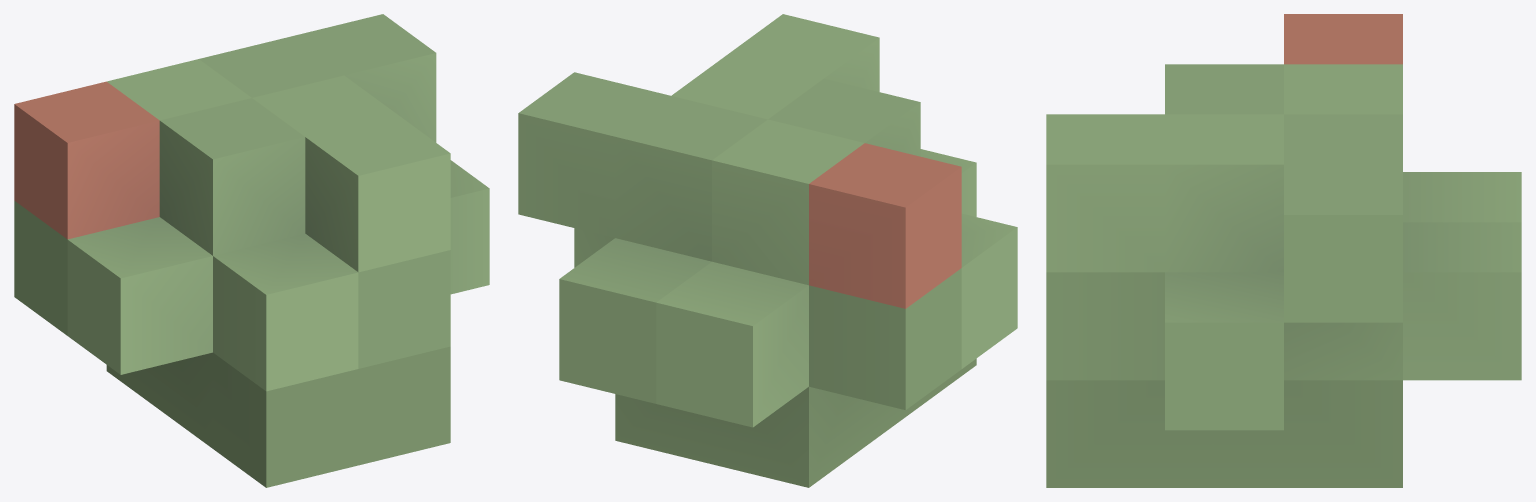
File: decor_bush_b.glb
3 views of the same model, side by side, from view 1: azimuth 30°, elevation 25°; view 2: azimuth 150°, elevation 25°; view 3: azimuth 270°, elevation 25° (orthographic). The views are drawn at different scales.
Visible parts, largest first — view 1: decor_bush_b; view 2: decor_bush_b; view 3: decor_bush_b.
Boxes of the visible parts, bbox=[...] form: decor_bush_b: bbox=[14, 14, 489, 487]; decor_bush_b: bbox=[518, 14, 1017, 487]; decor_bush_b: bbox=[1046, 14, 1521, 487].
Bounding box in the file's own units: 0.5 × 0.375 × 0.5.
